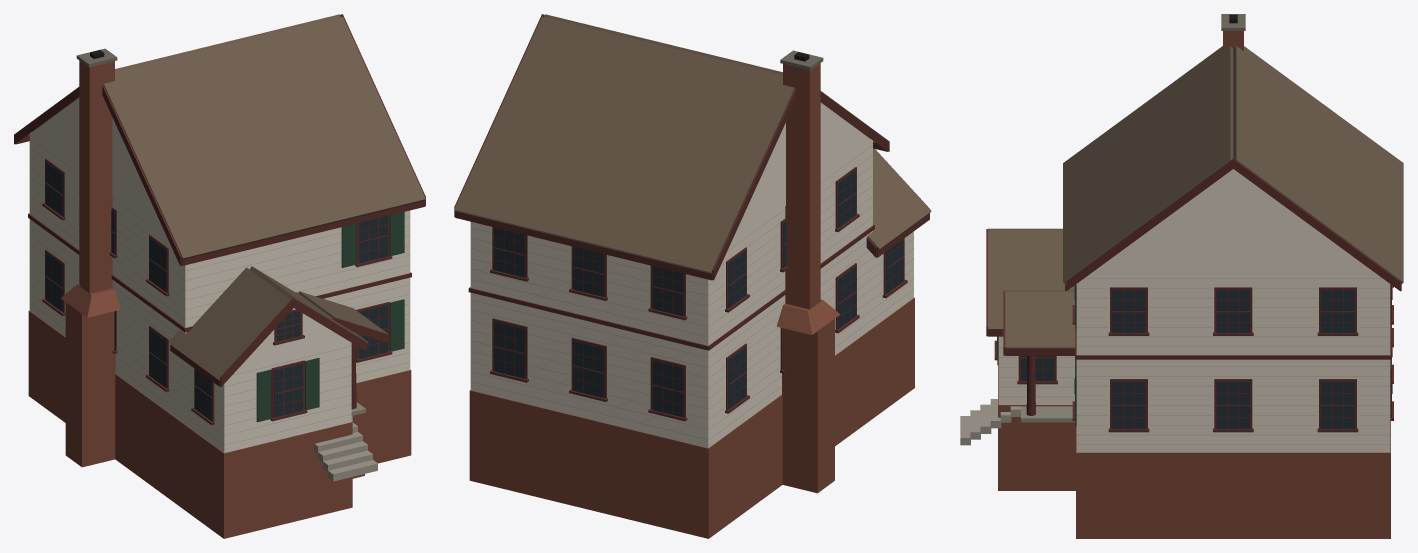
Rendered from frame-colonial-revival-house-0001.glb.
3 views of the same model, side by side, from view 1: azimuth 30°, elevation 25°; view 2: azimuth 150°, elevation 25°; view 3: azimuth 270°, elevation 25° (orthographic). The views are drawn at different scales.
Parts seen in each view (by area): view 1: kit-frame-colonial-revival-house-0001; view 2: kit-frame-colonial-revival-house-0001; view 3: kit-frame-colonial-revival-house-0001.
Part boxes in pixels (x1,y1,x2,y2): kit-frame-colonial-revival-house-0001: (14,14,425,538); kit-frame-colonial-revival-house-0001: (454,14,931,538); kit-frame-colonial-revival-house-0001: (960,14,1403,538).
Size of the model in its own units: 8.97 by 12.85 by 12.73.
